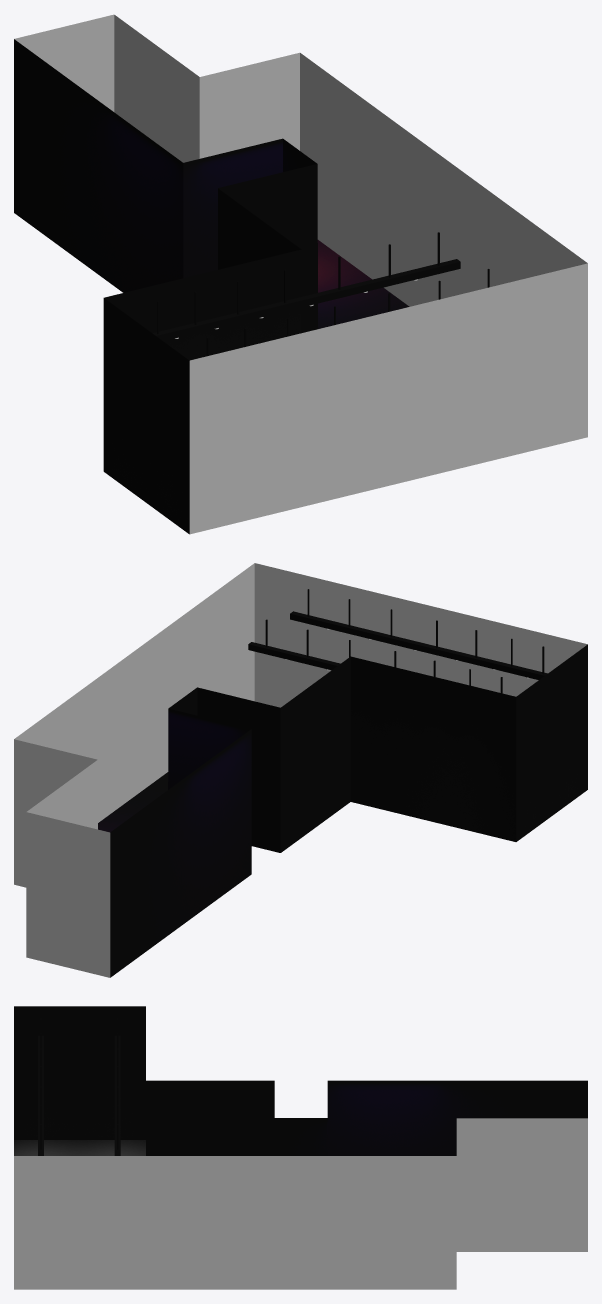
The model's file is photo-test.fbx.
3 views of the same model, one above another, from view 1: azimuth 30°, elevation 25°; view 2: azimuth 150°, elevation 25°; view 3: azimuth 270°, elevation 25° (orthographic). The views are drawn at different scales.
Parts seen in each view (by area): view 1: Cube.003, Cube.001, Cube.002, Cube.004; view 2: Cube.001, Cube.003, Cube.019, Cube.004, Cube.002; view 3: Cube.003, Cube.001, Cube.004, Cube.002, Cube.019.
Part boxes in pixels (x1,y1,x2,y2): Cube.003: [14, 14, 587, 534]; Cube.001: [14, 39, 317, 534]; Cube.002: [153, 232, 460, 341]; Cube.004: [317, 240, 409, 328]; Cube.001: [110, 644, 587, 977]; Cube.003: [14, 563, 587, 977]; Cube.019: [290, 589, 547, 679]; Cube.004: [98, 772, 168, 832]; Cube.002: [248, 619, 502, 693]; Cube.003: [14, 1118, 587, 1289]; Cube.001: [14, 1006, 587, 1155]; Cube.004: [14, 1140, 145, 1155]; Cube.002: [114, 1018, 120, 1155]; Cube.019: [38, 1018, 43, 1155].
Bounding box in the file's own units: 1199 × 504 × 1946.
